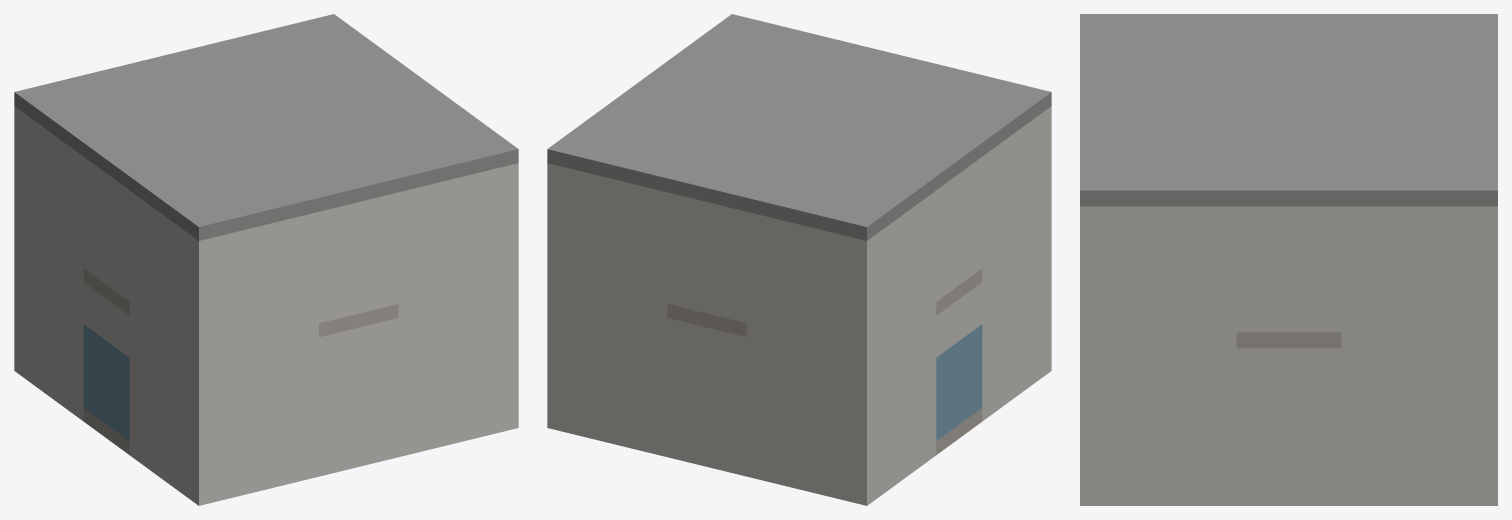
Rendered from cistern.glb.
3 renders of one model, left to right at view 1: azimuth 30°, elevation 25°; view 2: azimuth 150°, elevation 25°; view 3: azimuth 270°, elevation 25°, orthographic. The views are drawn at different scales.
Parts seen in each view (by area): view 1: ceiling_1, wall_8, wall_7, wall_5, wall_26, wall_25, wall_17, wall_3, wall_23, wall_21, plug_south, water_2 (+11 smaller); view 2: ceiling_1, wall_1, wall_2, wall_19, wall_20, wall_9, wall_5, wall_3, wall_23, wall_21, plug_north, water_2 (+7 smaller); view 3: ceiling_1, wall_6, wall_4, wall_24, wall_22, wall_14, plug_east, wall_29, wall_2, wall_20, floor_9.
Boxes of the visible parts, bbox=[...] form: ceiling_1: bbox=[14, 14, 518, 240]; wall_8: bbox=[398, 278, 505, 456]; wall_7: bbox=[212, 323, 318, 502]; wall_5: bbox=[129, 302, 212, 505]; wall_26: bbox=[398, 166, 505, 303]; wall_25: bbox=[212, 212, 318, 349]; wall_17: bbox=[319, 318, 398, 476]; wall_3: bbox=[22, 223, 83, 421]; wall_23: bbox=[129, 191, 212, 352]; wall_21: bbox=[22, 112, 83, 267]; plug_south: bbox=[319, 220, 398, 323]; water_2: bbox=[83, 324, 129, 440]; ceiling_1: bbox=[547, 14, 1051, 240]; wall_1: bbox=[747, 323, 874, 505]; wall_2: bbox=[547, 274, 667, 456]; wall_19: bbox=[747, 212, 874, 352]; wall_20: bbox=[547, 163, 667, 303]; wall_9: bbox=[667, 318, 746, 476]; wall_5: bbox=[982, 218, 1051, 421]; wall_3: bbox=[874, 302, 936, 499]; wall_23: bbox=[982, 106, 1051, 267]; wall_21: bbox=[874, 191, 936, 346]; plug_north: bbox=[667, 220, 746, 323]; water_2: bbox=[936, 324, 982, 440]; ceiling_1: bbox=[1080, 14, 1497, 206]; wall_6: bbox=[1080, 332, 1236, 505]; wall_4: bbox=[1341, 332, 1480, 505]; wall_24: bbox=[1080, 206, 1236, 332]; wall_22: bbox=[1341, 206, 1480, 332]; wall_14: bbox=[1236, 348, 1341, 505]; plug_east: bbox=[1236, 238, 1341, 332]; wall_29: bbox=[1236, 206, 1341, 237]; wall_2: bbox=[1480, 332, 1497, 505]; wall_20: bbox=[1480, 206, 1497, 332]; floor_9: bbox=[1236, 332, 1341, 348].
Bounding box in the file's own units: 12 × 10 × 12.
